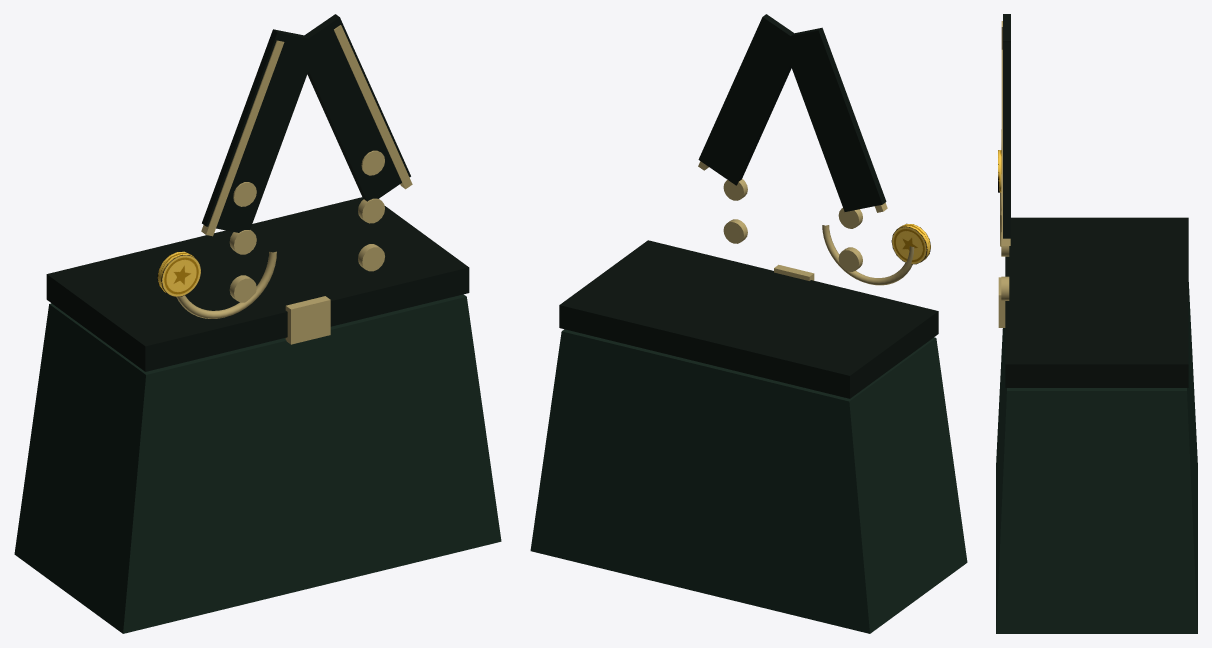
The model's file is eqf_eqtz0.glb.
3 views of the same model, side by side, from view 1: azimuth 30°, elevation 25°; view 2: azimuth 150°, elevation 25°; view 3: azimuth 270°, elevation 25° (orthographic). The views are drawn at different scales.
Size of the model in its own units: 2.48 by 3.51 by 1.23.
Materials: 5 (1 with a texture image).
